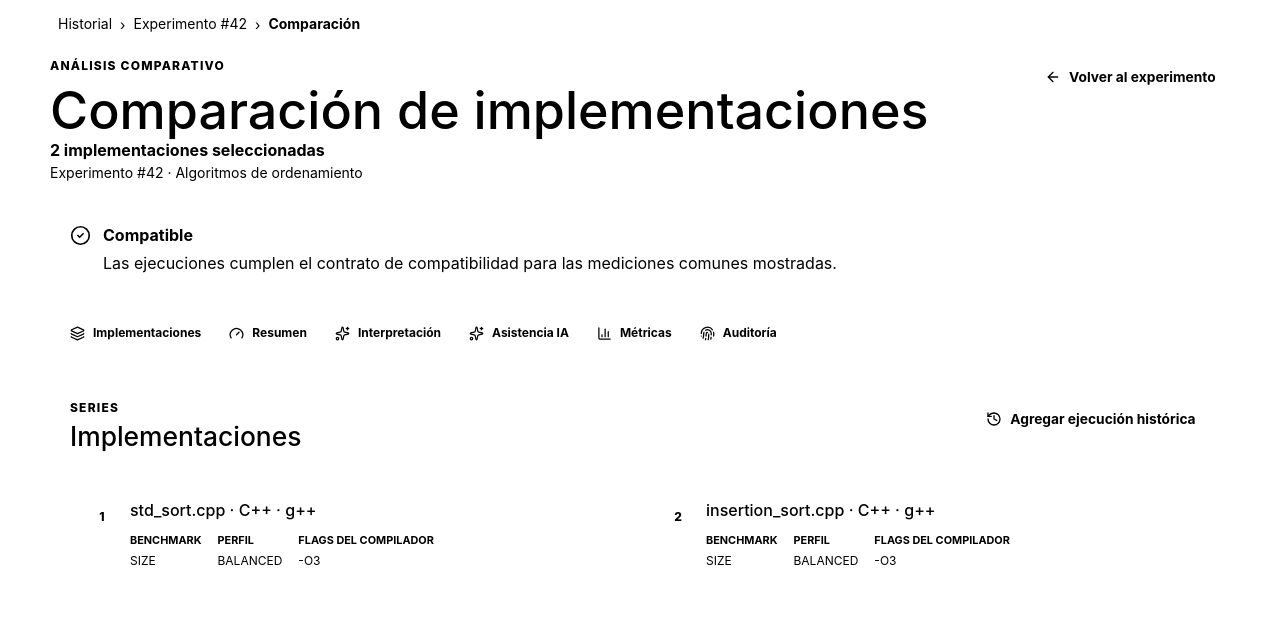
Scenario: ComparisonPage › historical panel renders a loading state
This screenshot has width=1280, height=636.
Expected: the heading "Comparación de implementaciones" is shown, [50,83,928,138]
Step 1. Click the button "Agregar ejecución histórica" → (1091, 419), box [972,399,1210,439]
(page scrolled)
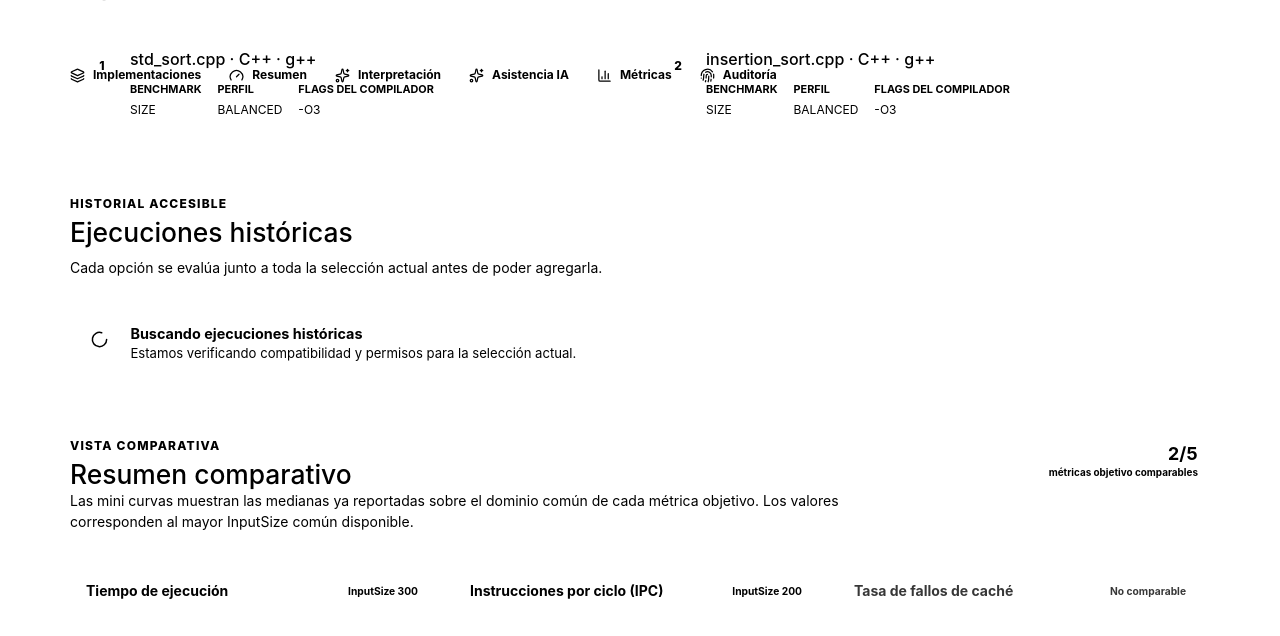
Expected: the text "Buscando ejecuciones históricas" is shown, [130,325,363,342]
